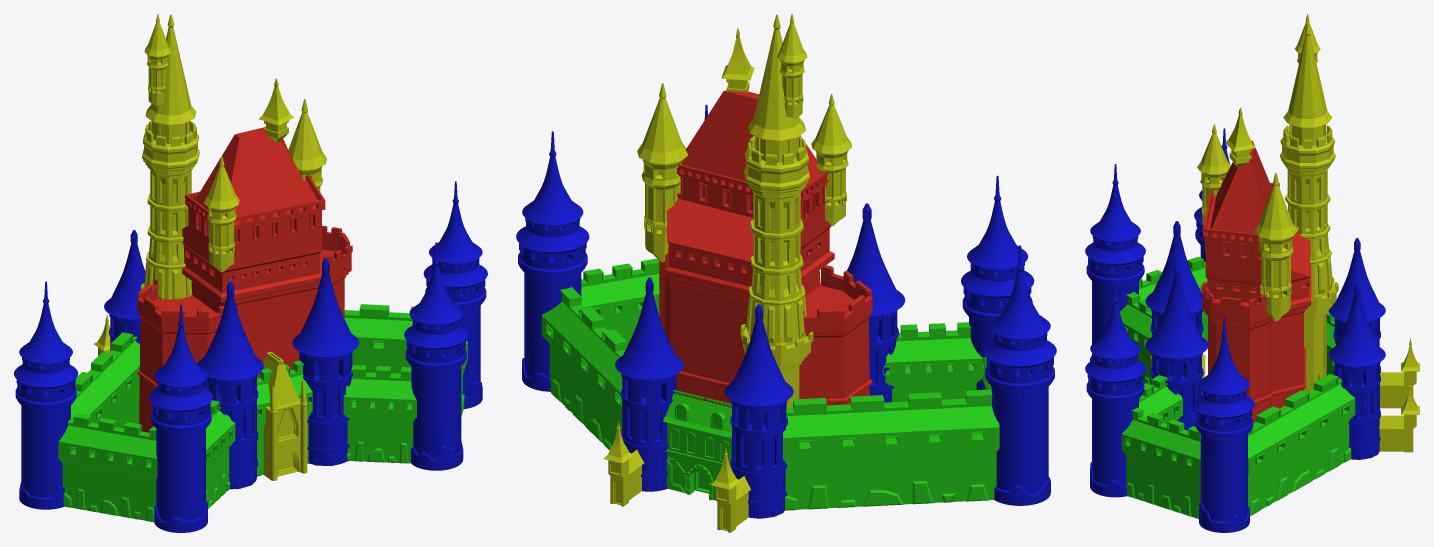
Rendered from Castle_3.fbx.
3 renders of one model, left to right at view 1: azimuth 30°, elevation 25°; view 2: azimuth 150°, elevation 25°; view 3: azimuth 270°, elevation 25°, orthographic. The views are drawn at different scales.
Visible parts, largest first — view 1: Цилиндр.001, Куб.011, Куб.008, Куб.010; view 2: Цилиндр.001, Куб.008, Куб.011, Куб.010; view 3: Цилиндр.001, Куб.008, Куб.010, Куб.011.
Part boxes in pixels (x1,y1,x2,y2): Цилиндр.001: (14, 181, 487, 532); Куб.011: (137, 127, 352, 432); Куб.008: (58, 304, 467, 522); Куб.010: (94, 14, 326, 480); Цилиндр.001: (516, 104, 1056, 518); Куб.008: (541, 258, 999, 510); Куб.011: (659, 90, 872, 407); Куб.010: (603, 14, 852, 532); Цилиндр.001: (1085, 128, 1385, 532); Куб.008: (1120, 256, 1355, 519); Куб.010: (1150, 14, 1419, 452); Куб.011: (1201, 140, 1311, 423).
Bounding box in the file's own units: 20387 × 17358 × 13439.
